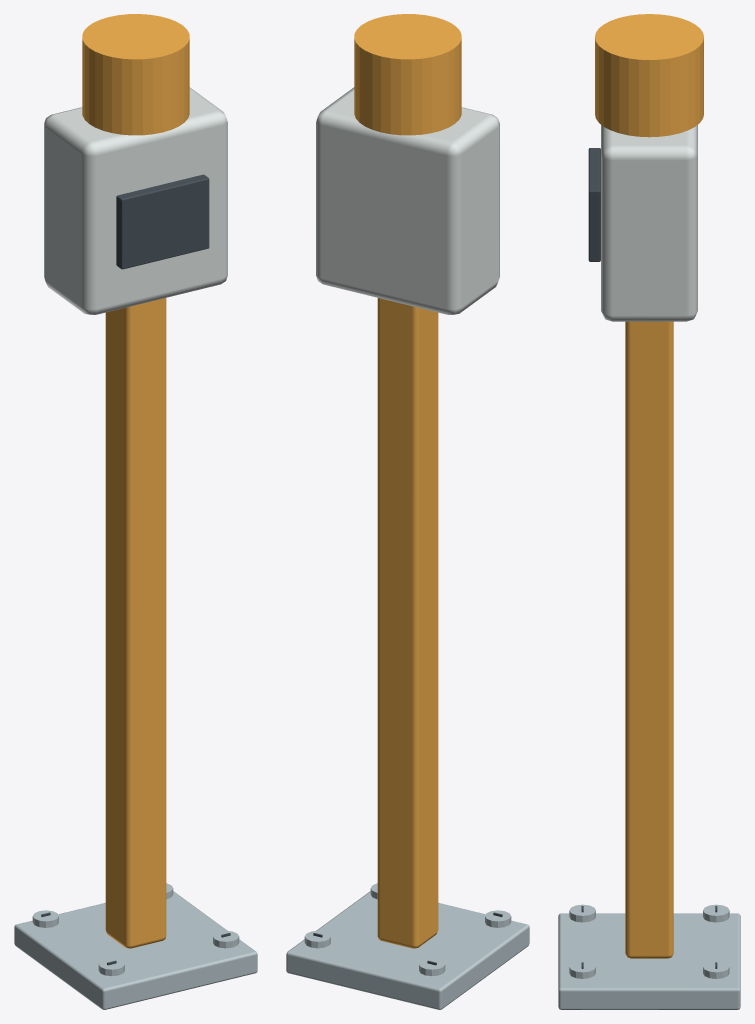
File: data-centre-infiltration-kit-data-centre-infiltration--4c652059__29260.glb
The picture shows the model from 3 angles, left to right: view 1: azimuth 30°, elevation 25°; view 2: azimuth 150°, elevation 25°; view 3: azimuth 270°, elevation 25°; orthographic projection.
Parts seen in each view (by area): view 1: data-centre-infiltration-kit-alarm-pedestal; view 2: data-centre-infiltration-kit-alarm-pedestal; view 3: data-centre-infiltration-kit-alarm-pedestal.
Part boxes in pixels (<box>): data-centre-infiltration-kit-alarm-pedestal: <box>14,14,257,1009</box>; data-centre-infiltration-kit-alarm-pedestal: <box>286,14,529,1009</box>; data-centre-infiltration-kit-alarm-pedestal: <box>558,14,740,1009</box>.
Bounding box in the file's own units: 0.3 × 1.7 × 0.3.
